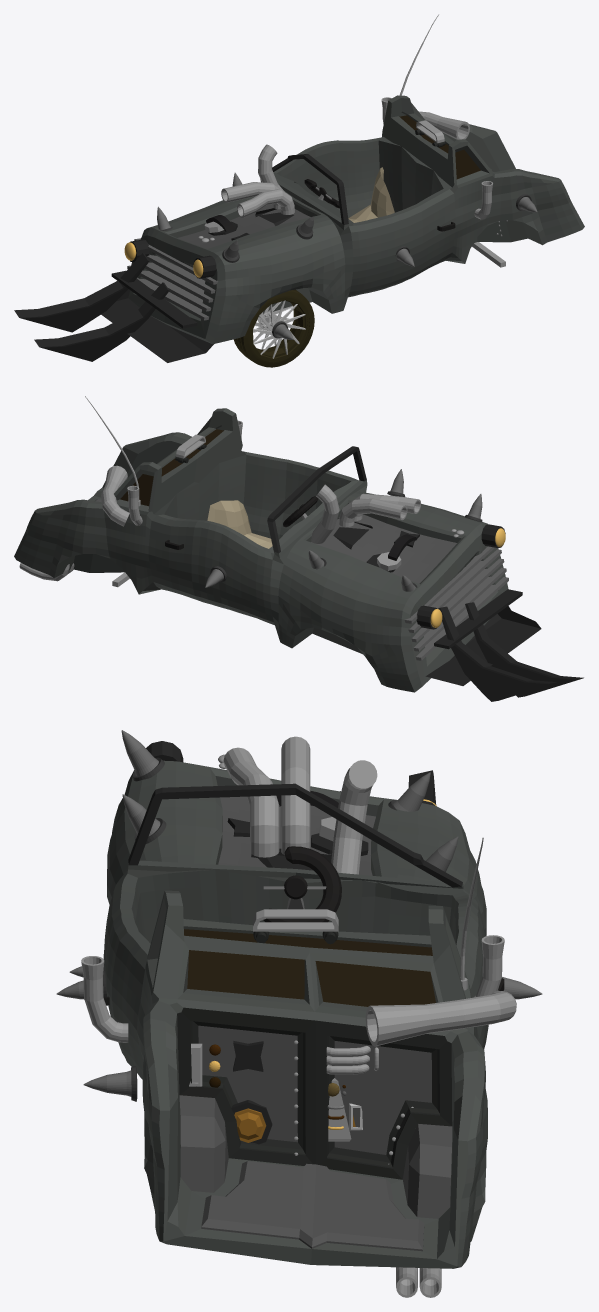
File: Vehicle_Destroyed.fbx
The picture shows the model from 3 angles, top to bottom: view 1: azimuth 30°, elevation 25°; view 2: azimuth 150°, elevation 25°; view 3: azimuth 270°, elevation 25°; orthographic projection. The views are drawn at different scales.
Parts seen in each view (by area): view 1: Cube, Cube.002, Cylinder.028, Cube.006, Cube.008, Cube.009, Cube.016, Cylinder.004, Cylinder.001, Cylinder.005, Cylinder.003, Cylinder.002 (+1 smaller); view 2: Cube, Cube.002, Cube.006, Cube.008, Cube.016, Cube.009, Cylinder.001, Cylinder.005, Cylinder.003, Cylinder.002, Cylinder.004, Cylinder.025 (+3 smaller); view 3: Cube, Cylinder.005, Cylinder.004, Cylinder.003, Cylinder.001, Cylinder.007, Torus, Cylinder.009, Cube.020, Cylinder.025, Cylinder.006, Cylinder.027 (+4 smaller).
Boxes of the visible parts, x1,y1,x2,y2 form: Cube: (128, 95, 584, 344); Cube.002: (14, 253, 169, 361); Cylinder.028: (233, 289, 314, 367); Cube.006: (127, 238, 218, 320); Cube.008: (101, 282, 213, 362); Cube.009: (111, 270, 197, 328); Cube.016: (348, 167, 394, 222); Cylinder.004: (237, 188, 294, 217); Cylinder.001: (221, 182, 282, 209); Cylinder.005: (418, 111, 469, 139); Cylinder.003: (258, 144, 284, 191); Cylinder.002: (130, 239, 216, 278); Cube: (14, 408, 508, 692); Cube.002: (438, 602, 583, 701); Cube.006: (404, 546, 508, 660); Cube.008: (425, 606, 541, 685); Cube.016: (207, 500, 272, 548); Cube.009: (434, 589, 522, 649); Cylinder.001: (339, 498, 407, 526); Cylinder.005: (101, 465, 129, 526); Cylinder.003: (311, 484, 339, 543); Cylinder.002: (416, 524, 505, 629); Cylinder.004: (351, 493, 420, 520); Cylinder.025: (308, 469, 405, 569); Cube: (103, 760, 488, 1268); Cylinder.005: (365, 990, 516, 1046); Cylinder.004: (223, 747, 279, 857); Cylinder.003: (331, 760, 377, 874); Cylinder.001: (281, 736, 310, 855); Cylinder.007: (81, 956, 128, 1042); Torus: (263, 846, 341, 922); Cylinder.009: (121, 730, 430, 811); Cube.020: (253, 909, 338, 931); Cylinder.025: (122, 794, 458, 871); Cylinder.006: (473, 935, 504, 997); Cylinder.027: (83, 1066, 137, 1101).
Size of the model in its own units: 1059 by 444 by 431.
